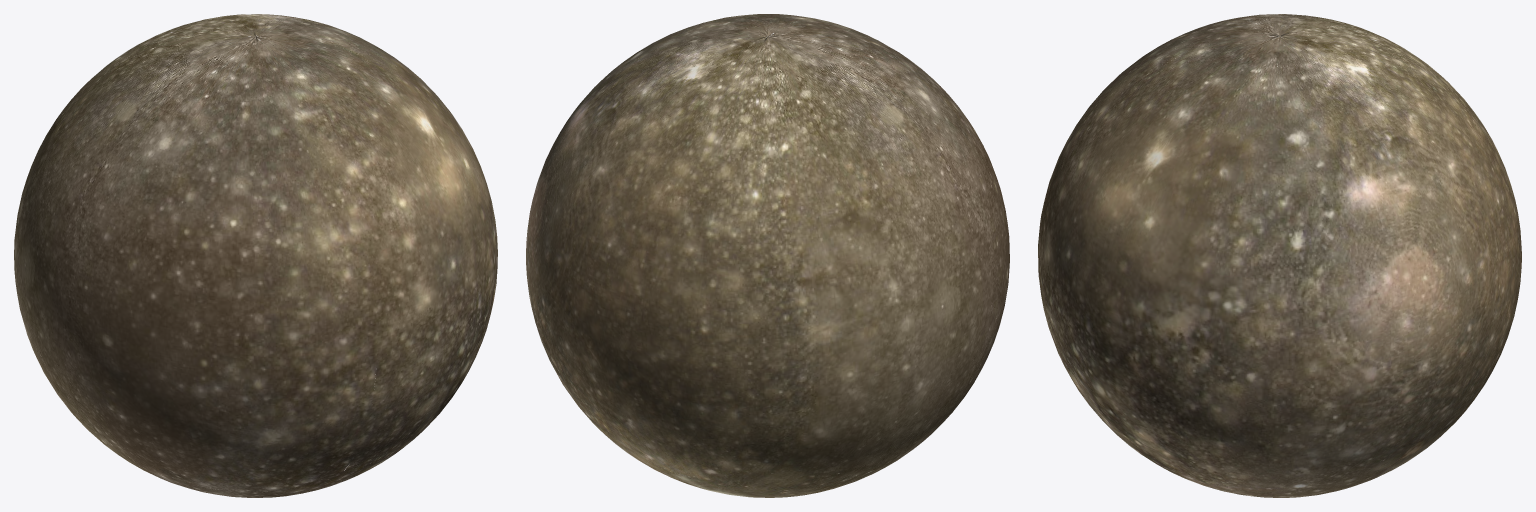
The model's file is Callisto_1_4821.glb.
3 renders of one model, left to right at view 1: azimuth 30°, elevation 25°; view 2: azimuth 150°, elevation 25°; view 3: azimuth 270°, elevation 25°, orthographic.
Visible parts, largest first — view 1: cylindrically_mapped_sphere; view 2: cylindrically_mapped_sphere; view 3: cylindrically_mapped_sphere.
Part boxes in pixels (x1,y1,x2,y2): cylindrically_mapped_sphere: (14, 14, 497, 497); cylindrically_mapped_sphere: (526, 14, 1009, 497); cylindrically_mapped_sphere: (1038, 14, 1521, 497).
Bounding box in the file's own units: 1000 × 1001 × 1000.
1 material, 1 textured.
